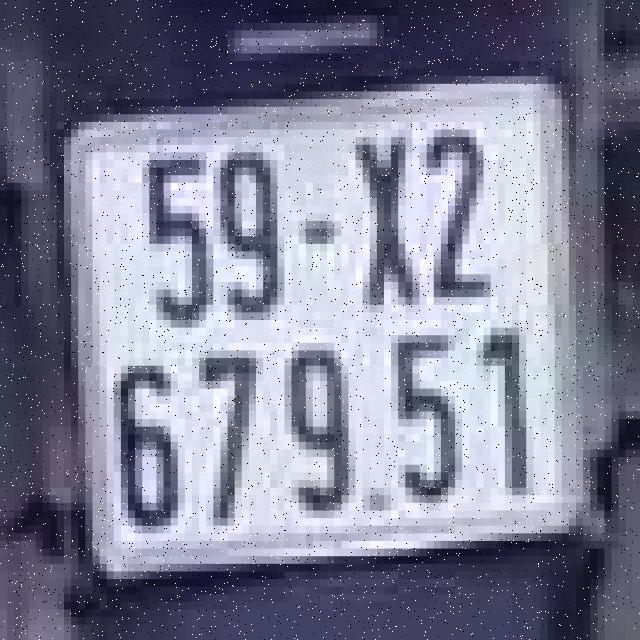1: (473, 320, 537, 518)
2: (423, 122, 516, 312)
5: (124, 137, 224, 335), (384, 320, 469, 518)
6: (103, 354, 189, 537)
7: (192, 343, 263, 541)
9: (210, 144, 302, 328), (277, 331, 363, 522)
X: (341, 126, 427, 316)
